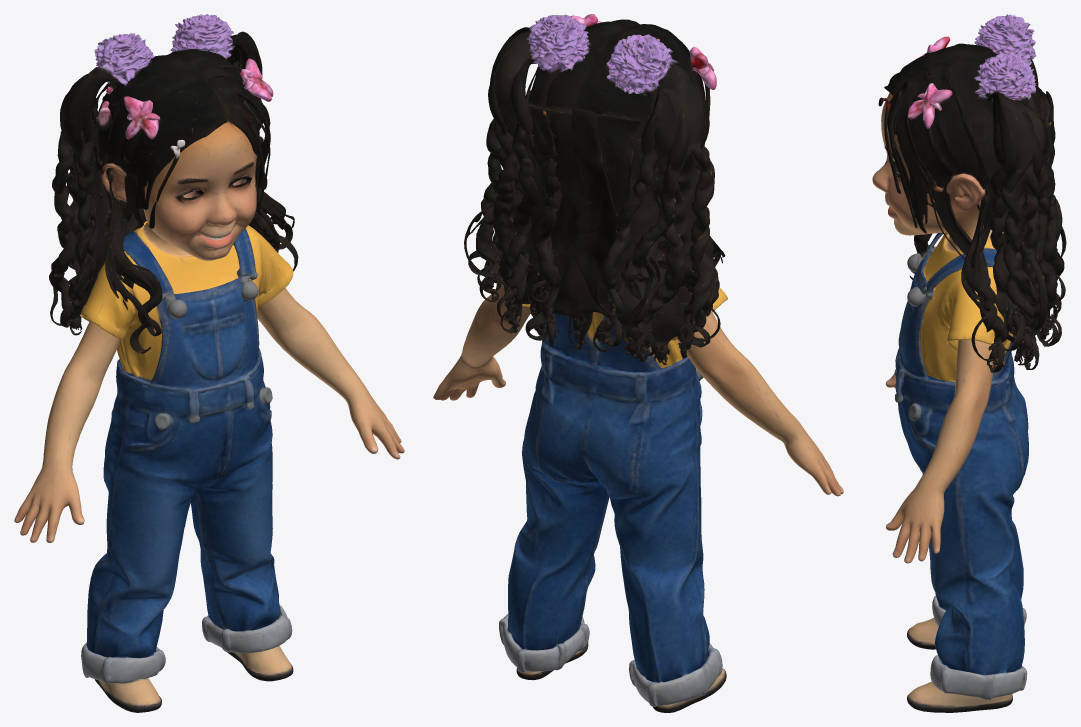
File: karma2.glb
The picture shows the model from 3 angles, left to right: view 1: azimuth 30°, elevation 25°; view 2: azimuth 150°, elevation 25°; view 3: azimuth 270°, elevation 25°; orthographic projection. The views are drawn at different scales.
Parts seen in each view (by area): view 1: world; view 2: world; view 3: world.
Boxes of the visible parts, <box> form: world: <box>14,14,404,712</box>; world: <box>433,14,843,712</box>; world: <box>872,14,1066,712</box>.
Bounding box in the file's own units: 0.6254 × 1 × 0.2771.
Materials: 1 (1 with a texture image).
